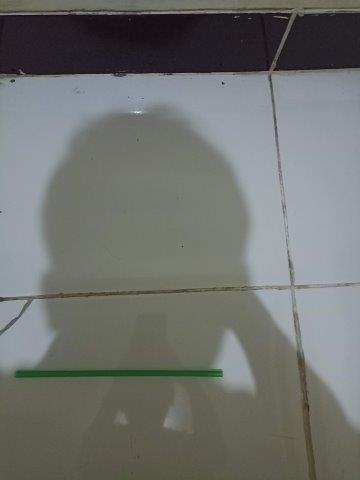sedotan: (15, 370, 223, 378)
